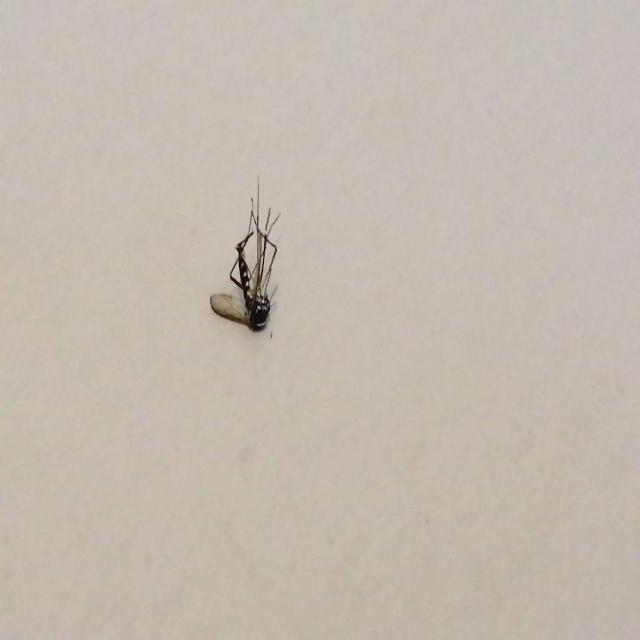albopictus: (214, 174, 284, 330)
